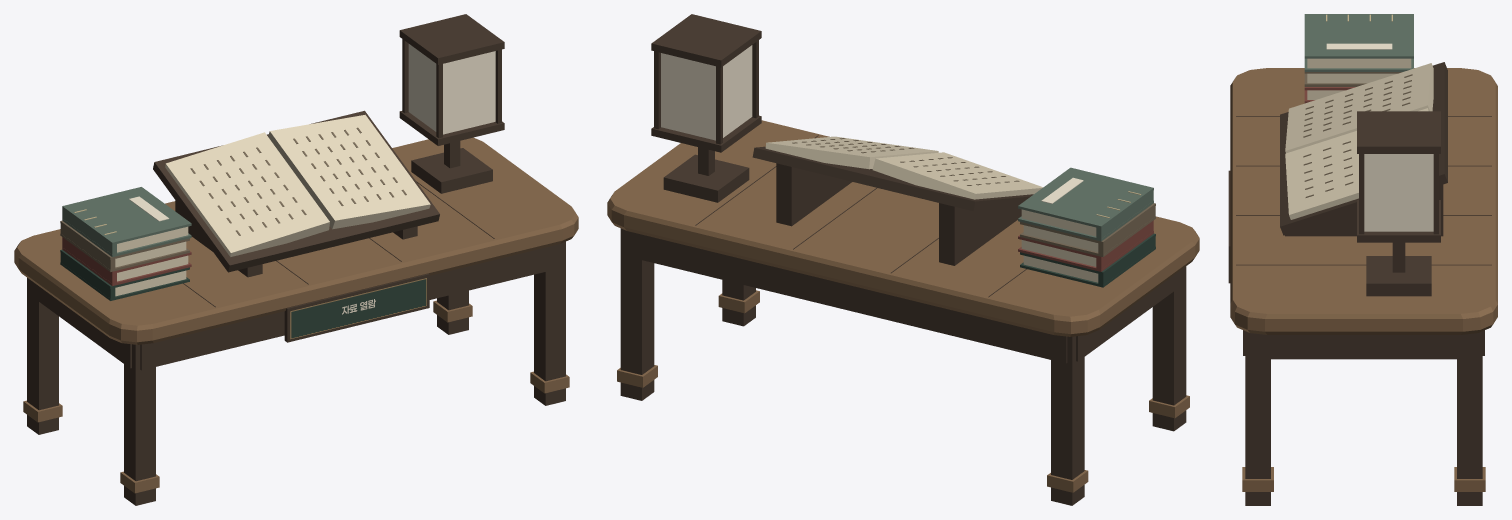
Rendered from 06_Manuscript_Reading_Table.fbx.
3 renders of one model, left to right at view 1: azimuth 30°, elevation 25°; view 2: azimuth 150°, elevation 25°; view 3: azimuth 270°, elevation 25°, orthographic. The views are drawn at different scales.
Parts seen in each view (by area): view 1: 06_Manuscript_Reading_Table__Structure, 06_Manuscript_Reading_Table__Open_Manuscript; view 2: 06_Manuscript_Reading_Table__Structure, 06_Manuscript_Reading_Table__Open_Manuscript; view 3: 06_Manuscript_Reading_Table__Structure, 06_Manuscript_Reading_Table__Open_Manuscript.
Boxes of the visible parts, <box> form: 06_Manuscript_Reading_Table__Structure: <box>14,14,578,505</box>; 06_Manuscript_Reading_Table__Open_Manuscript: <box>153,110,439,272</box>; 06_Manuscript_Reading_Table__Structure: <box>607,14,1199,505</box>; 06_Manuscript_Reading_Table__Open_Manuscript: <box>752,136,1042,211</box>; 06_Manuscript_Reading_Table__Structure: <box>1228,14,1497,505</box>; 06_Manuscript_Reading_Table__Open_Manuscript: <box>1280,62,1447,235</box>.
Bounding box in the file's own units: 252 × 168 × 116.
Materials: 1 (1 with a texture image).
